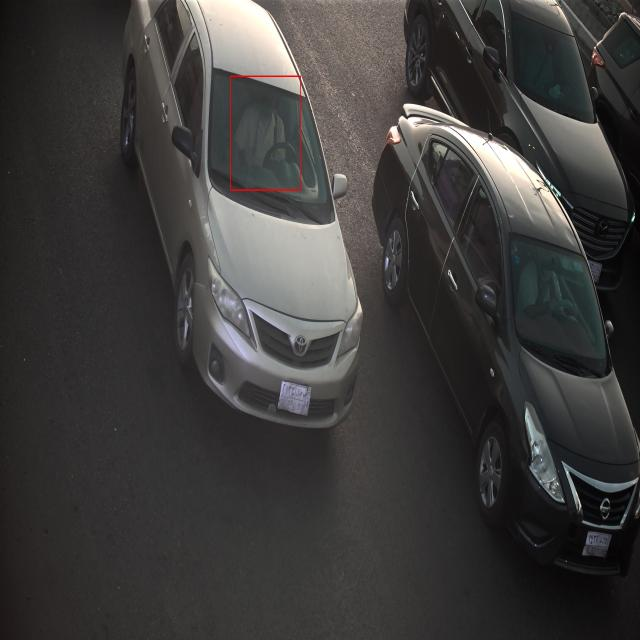windshield: (507, 8, 599, 127)
